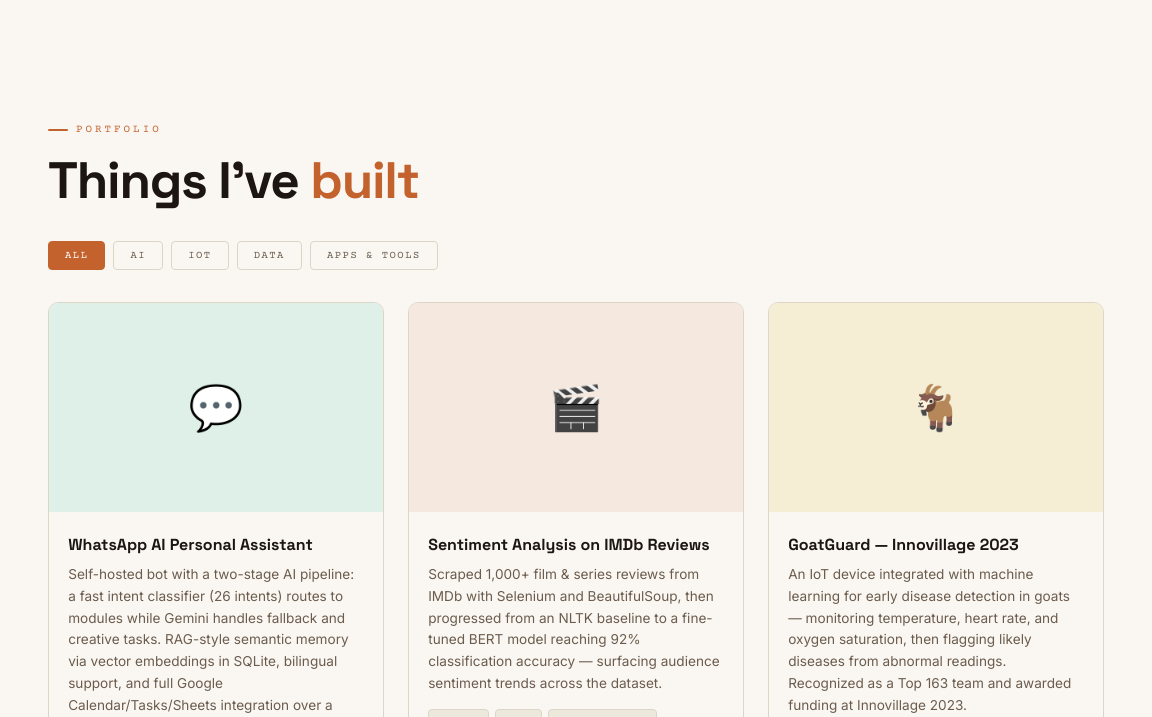
Scenario: ProjectsSection links › shows only the Spotify card under the Data filter
Click the button "Data". click: (269, 256)
box: [237,241,302,270]
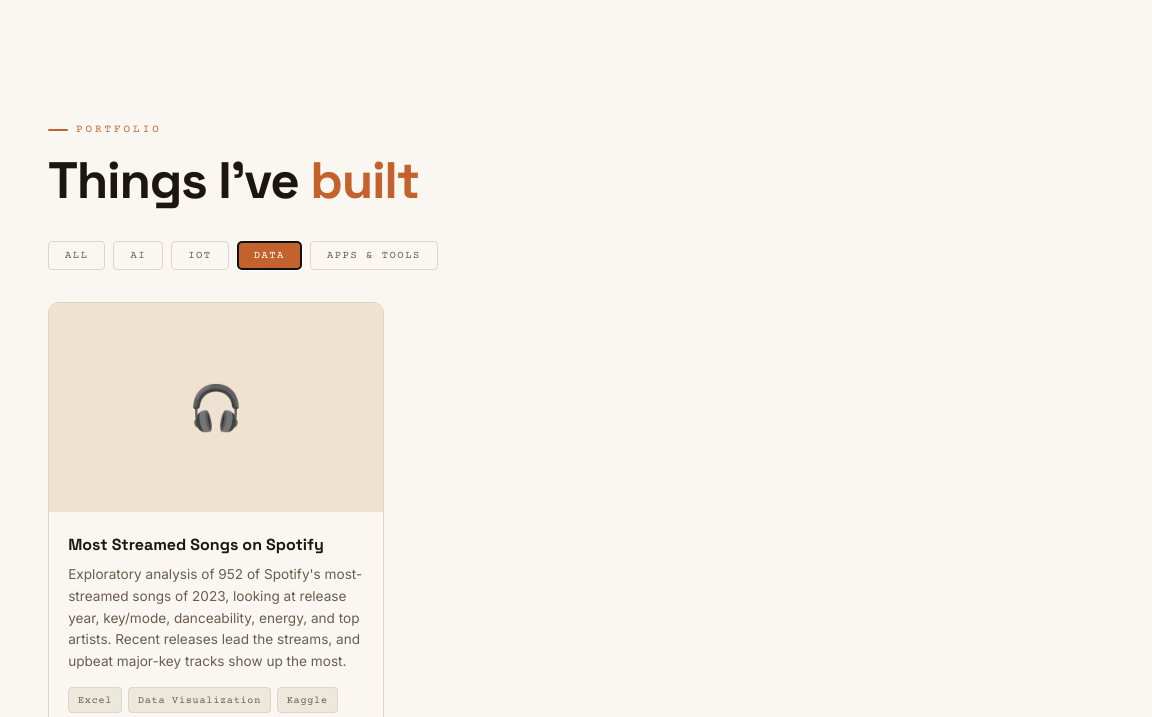
Expected: the heading "Most Streamed Songs on Spotify" is shown, [68,531,364,558]
Now the heading "WhatsApp AI Personal Assistant" is gone
Now the heading "GoatGuard — Innovillage 2023" is gone
